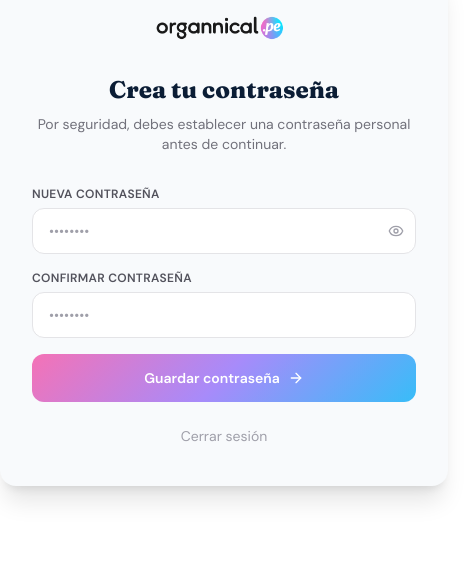
Test: CambiarContrasenaPage — validaciones cliente › muestra error si la contraseña tiene menos de 8 caracteres
The image size is (465, 582).
In the password field labelled "Nueva contraseña": (224, 231) 32,208 -> 416,254, type "abc123"
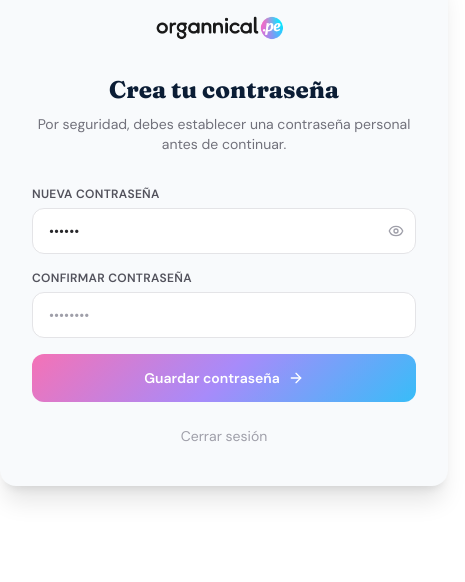
In the password field labelled "Confirmar contraseña": (224, 315) 32,292 -> 416,338, type "abc123"
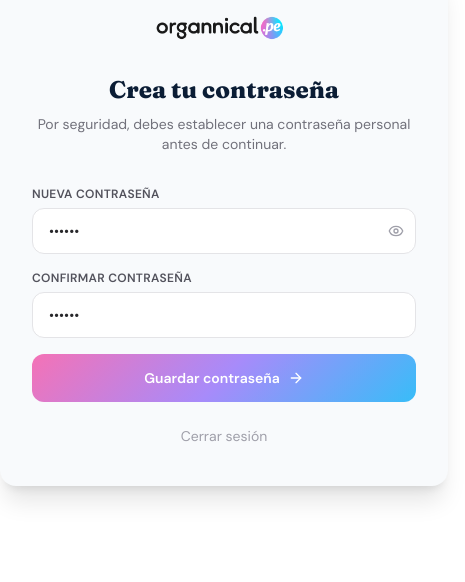
Click the button "Guardar contraseña": (224, 378) 32,354 -> 416,402
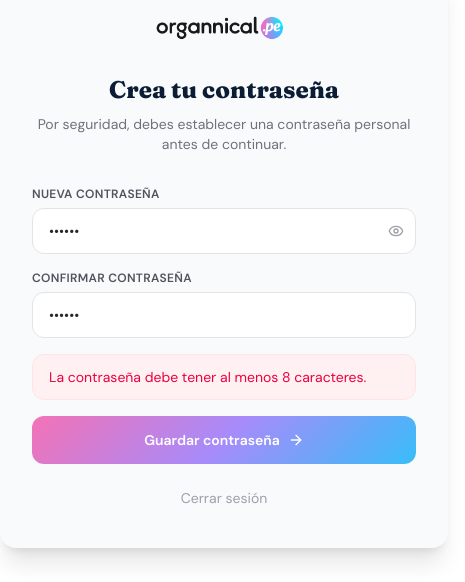
Check: the text "La contraseña debe tener al menos 8 caracteres." is shown, box 32,354 -> 416,400
